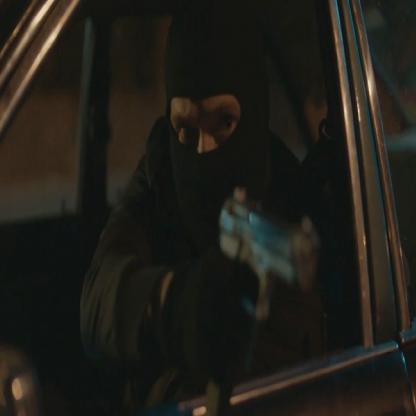Guns: (211, 181, 322, 367)
